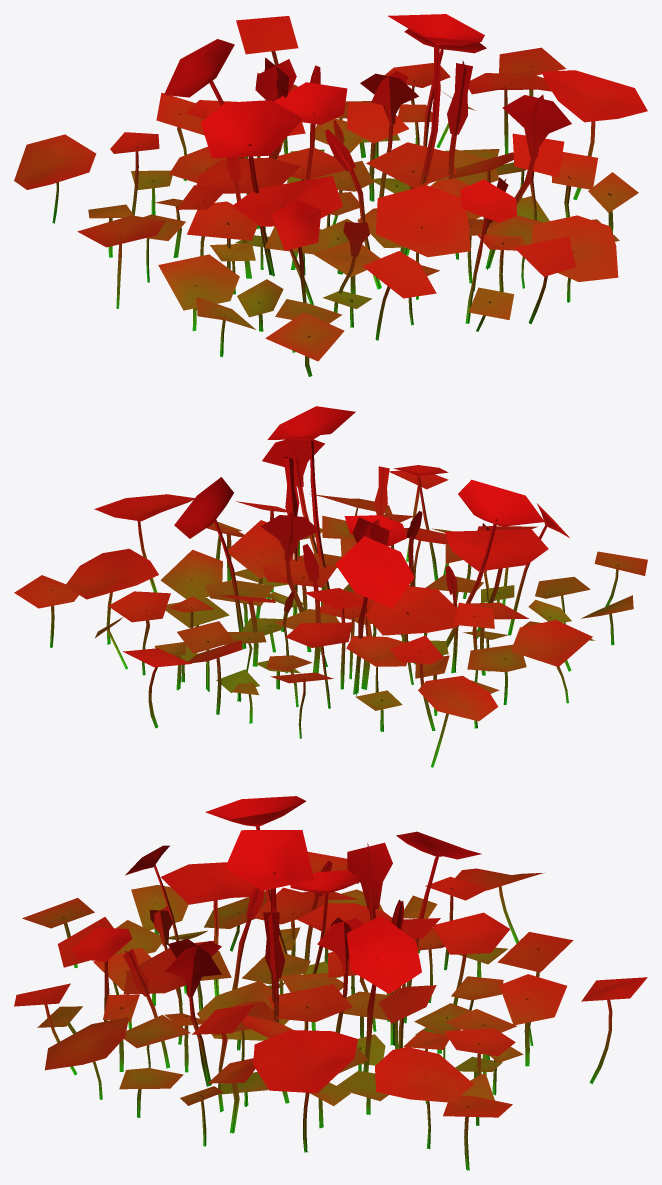
The model's file is Var8_LOD0.fbx.
3 renders of one model, top to bottom at view 1: azimuth 30°, elevation 25°; view 2: azimuth 150°, elevation 25°; view 3: azimuth 270°, elevation 25°, orthographic. The views are drawn at different scales.
Parts seen in each view (by area): view 1: _ee0a_Var8_LOD0; view 2: _ee0a_Var8_LOD0; view 3: _ee0a_Var8_LOD0.
Boxes of the visible parts, bbox=[...] form: _ee0a_Var8_LOD0: bbox=[14, 14, 647, 376]; _ee0a_Var8_LOD0: bbox=[14, 406, 647, 767]; _ee0a_Var8_LOD0: bbox=[14, 796, 647, 1170].
Size of the model in its own units: 45.19 by 19.06 by 46.1.
